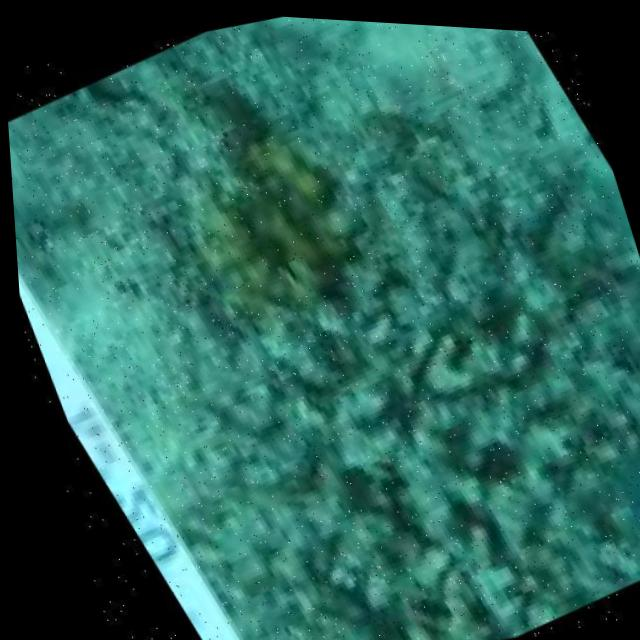Dead Coral: (130, 254, 640, 640), (317, 82, 604, 333)
